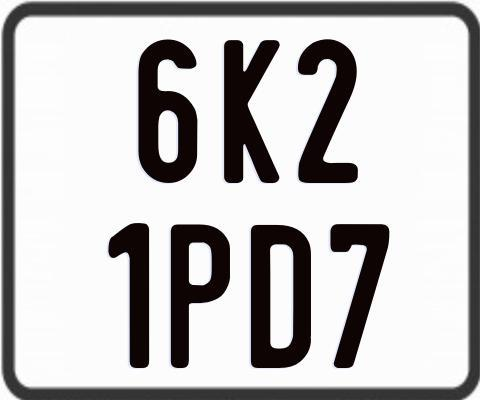1: (105, 222, 152, 368)
2: (295, 37, 356, 185)
6: (135, 40, 194, 183)
7: (329, 224, 391, 374)
D: (249, 222, 310, 367)
K: (221, 40, 282, 184)
P: (168, 222, 231, 369)
